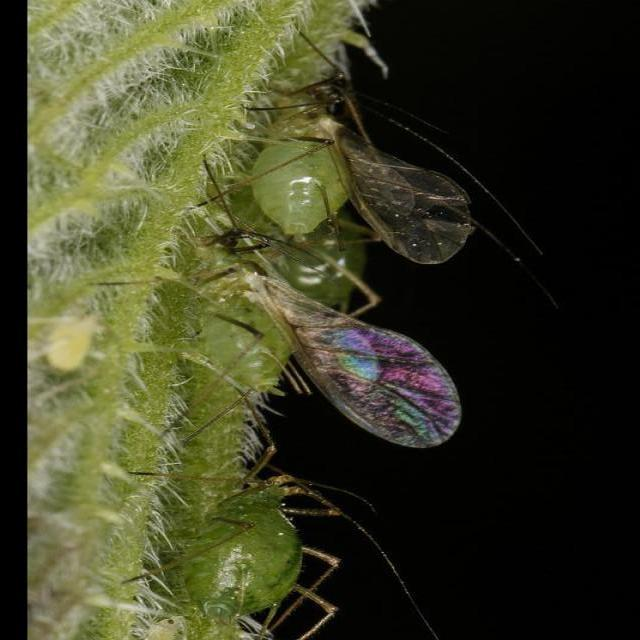aphid: (128, 416, 357, 628), (228, 90, 431, 248)
